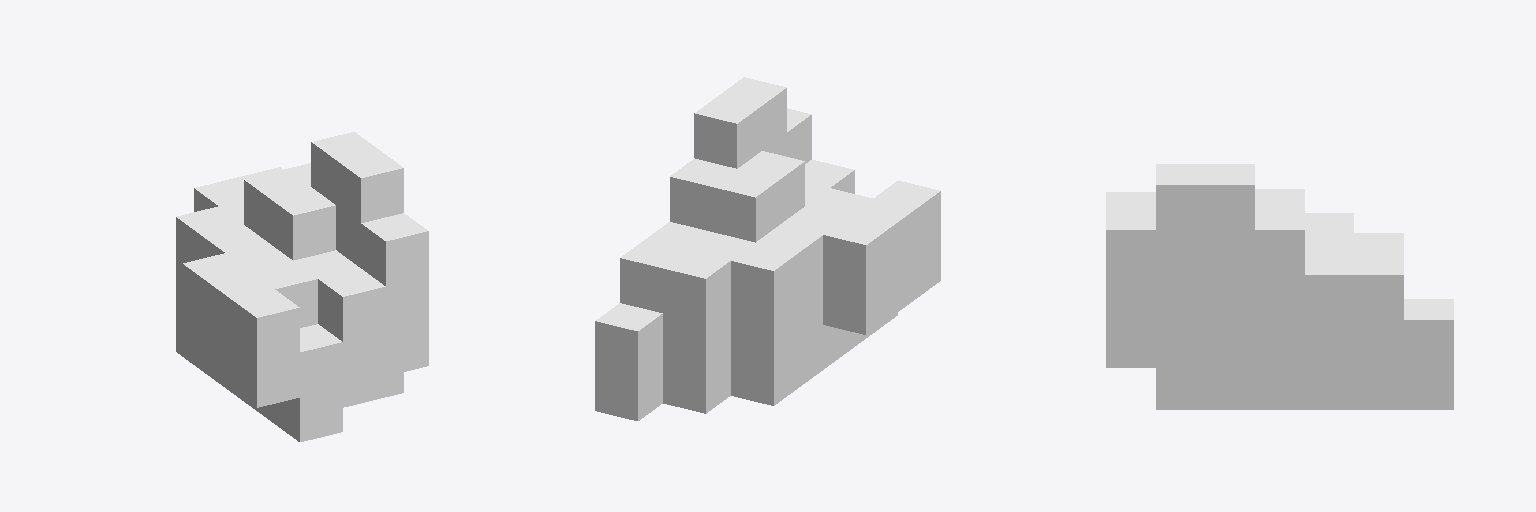
The model's file is Man_A.obj.
3 views of the same model, side by side, from view 1: azimuth 30°, elevation 25°; view 2: azimuth 150°, elevation 25°; view 3: azimuth 270°, elevation 25° (orthographic).
Parts seen in each view (by area): view 1: object 1; view 2: object 1; view 3: object 1.
Boxes of the visible parts, x1,y1,x2,y2 form: object 1: [176, 132, 428, 441]; object 1: [595, 77, 940, 420]; object 1: [1106, 164, 1453, 409].
Bounding box in the file's own units: 0.4 × 0.5 × 0.7.